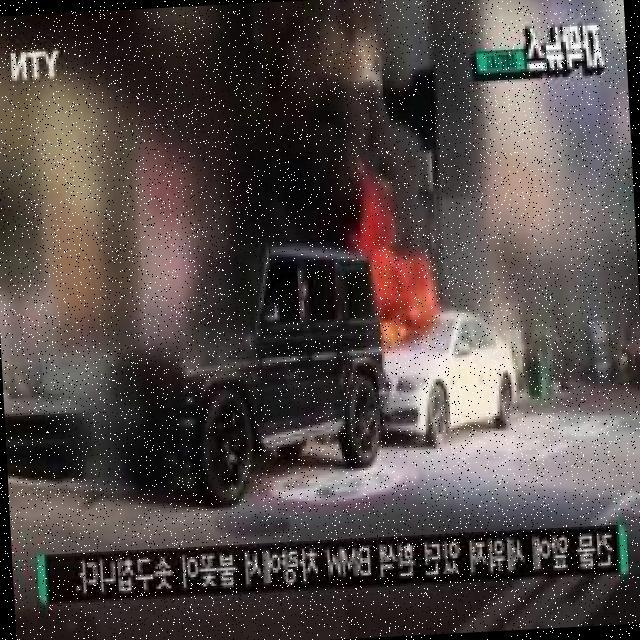Fire: (358, 221, 436, 348)
